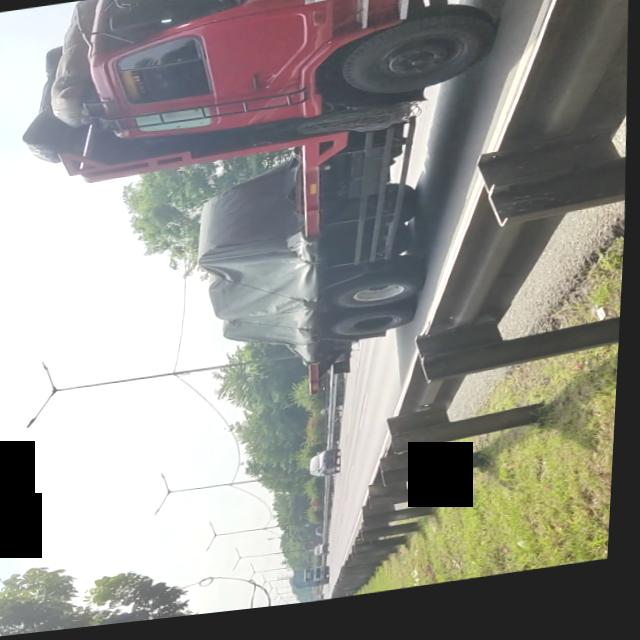Golongan III: (40, 0, 523, 438)
